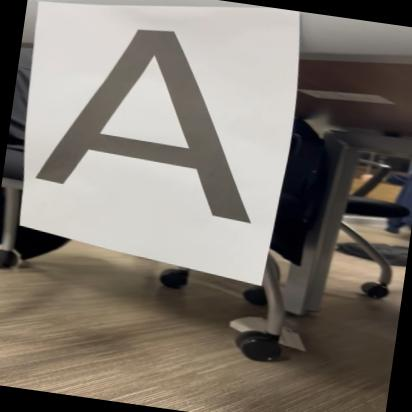seat: (23, 10, 281, 233)
